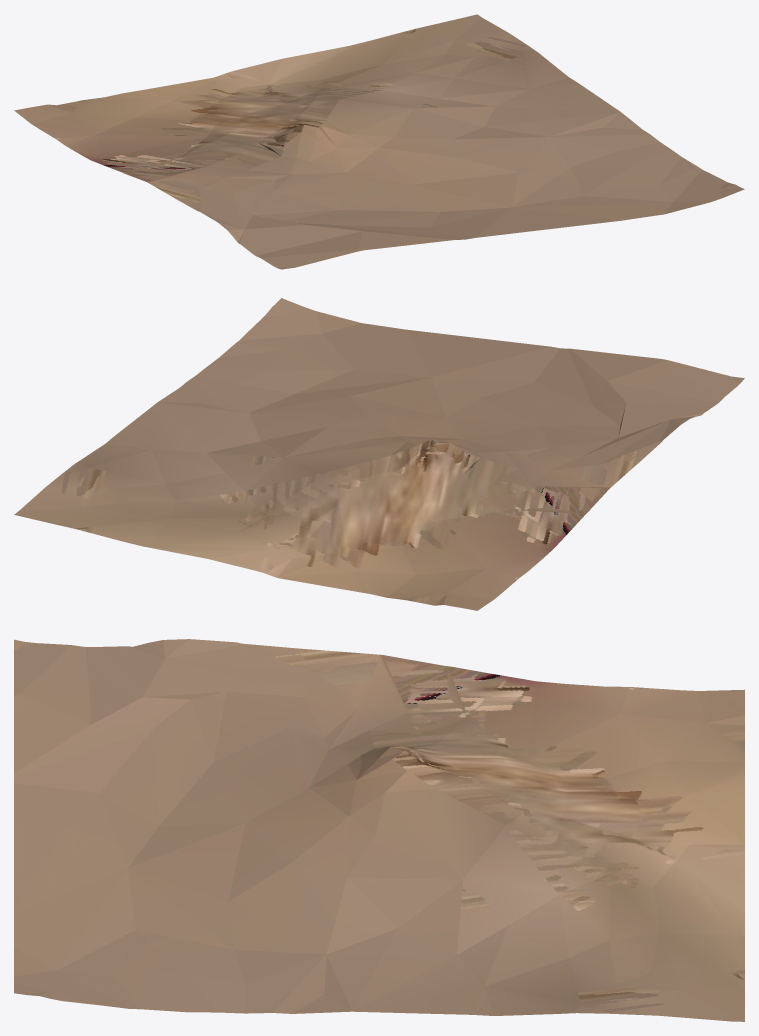
The picture shows the model from 3 angles, top to bottom: view 1: azimuth 30°, elevation 25°; view 2: azimuth 150°, elevation 25°; view 3: azimuth 270°, elevation 25°; orthographic projection. The views are drawn at different scales.
Bounding box in the file's own units: 1.04 × 0.1169 × 1.04.
3 materials, 3 textured.
